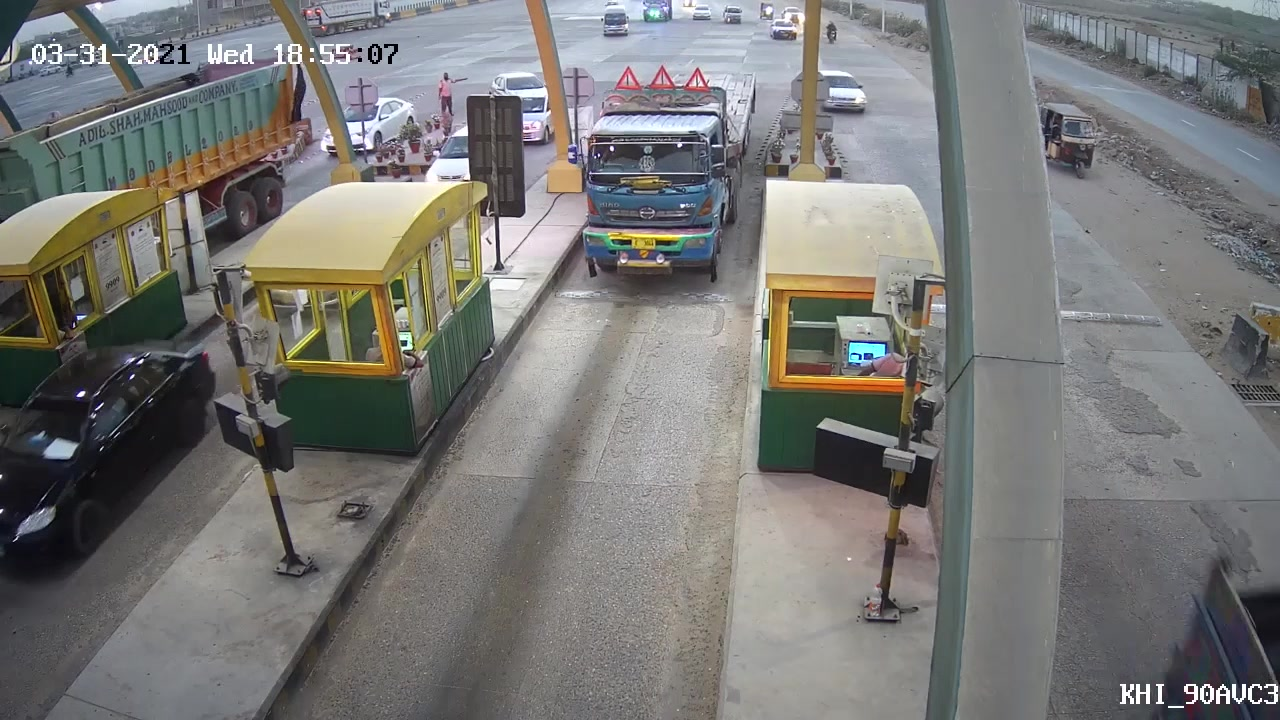F6: (568, 59, 754, 284)
